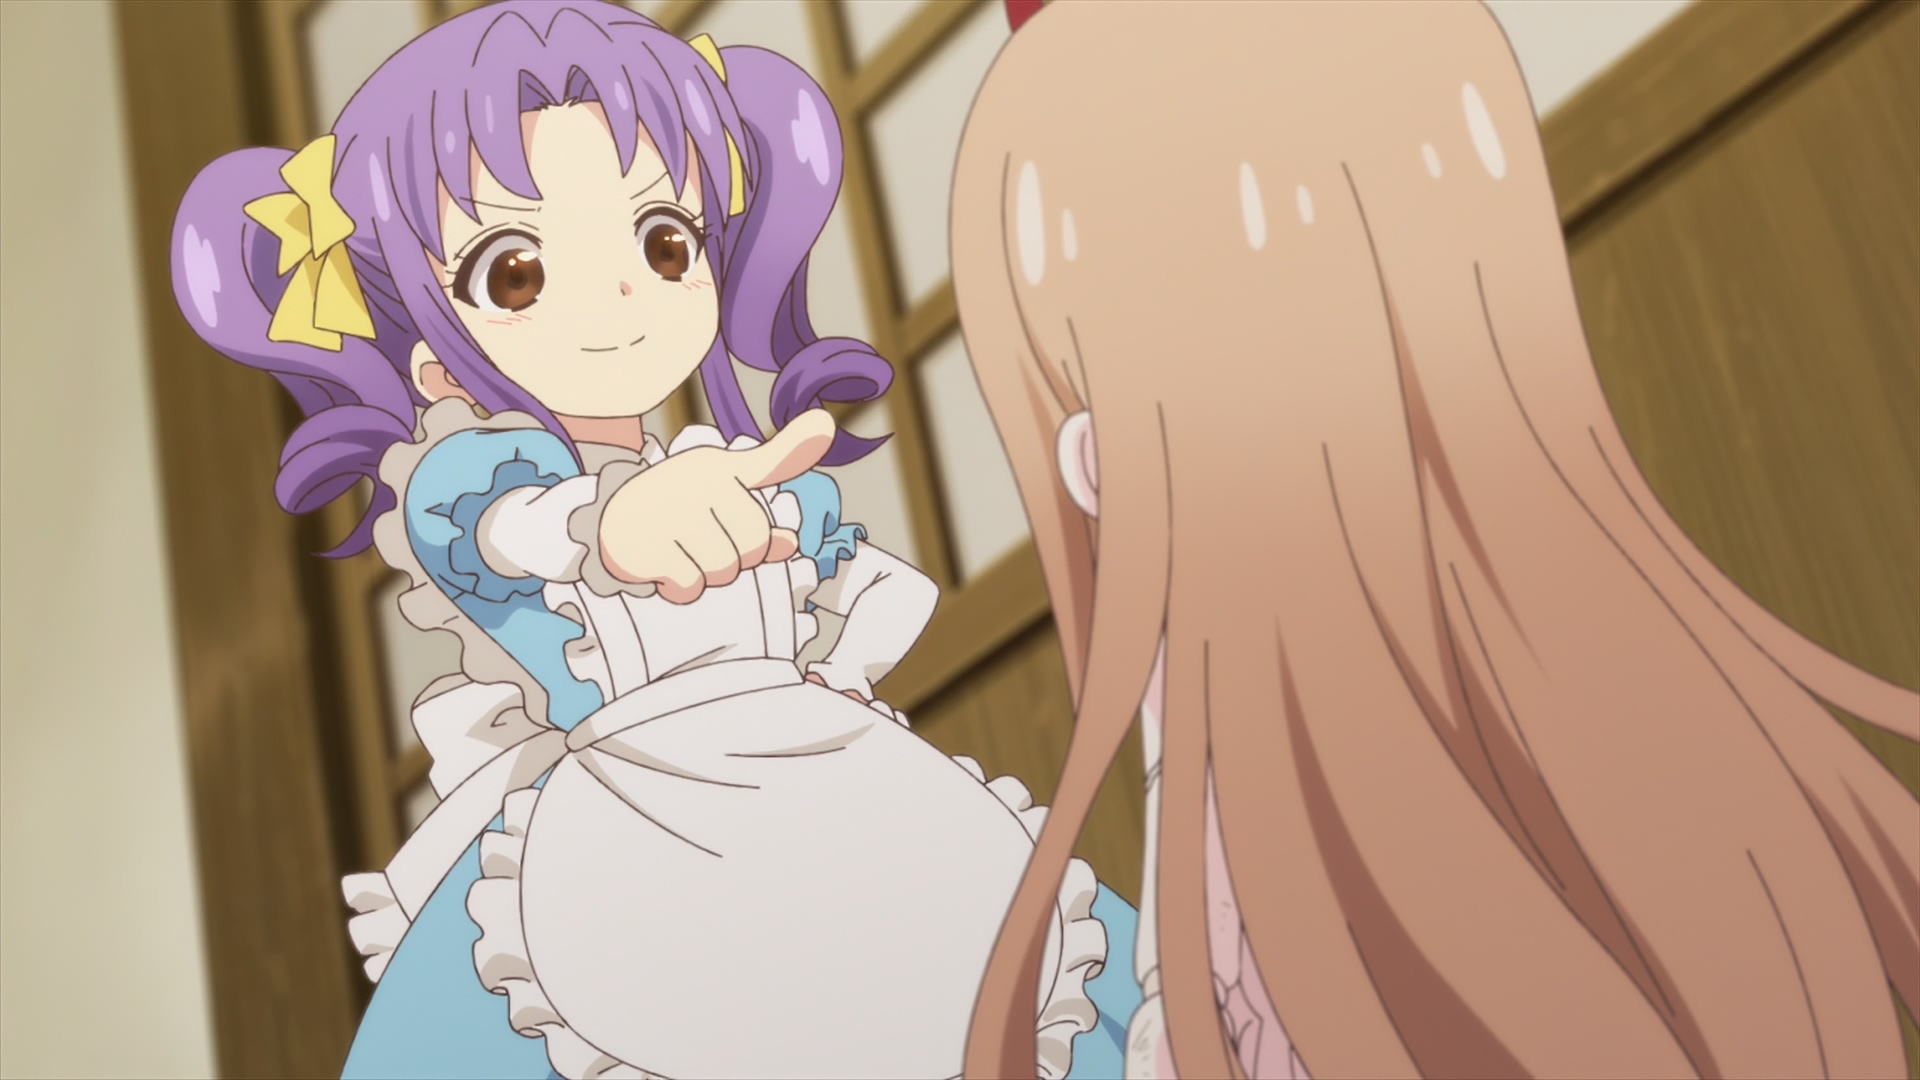其他: (948, 1, 1920, 1080)
阿菊: (167, 1, 1139, 1080)
